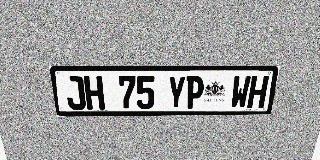5: (136, 76, 155, 109)
7: (117, 76, 137, 109)
H: (83, 76, 105, 110), (247, 76, 269, 108)
J: (64, 76, 86, 110)
P: (185, 76, 204, 109)
W: (230, 76, 251, 108)
Y: (167, 76, 186, 109)
